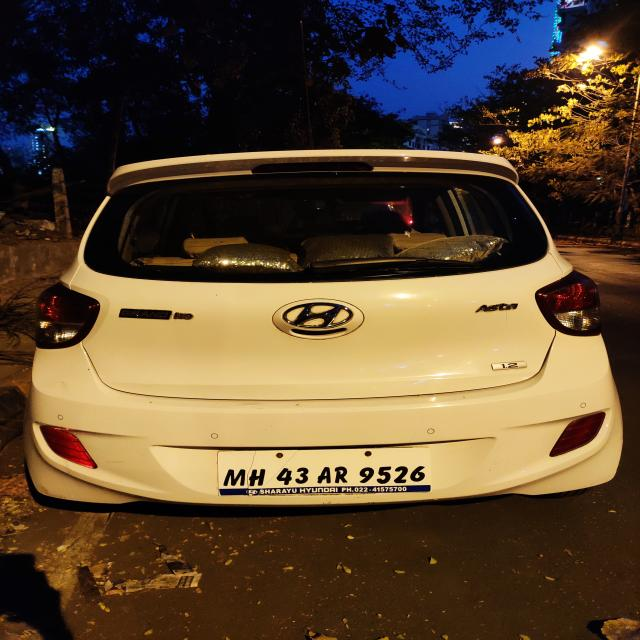Number-Plate: (222, 449, 444, 495)
